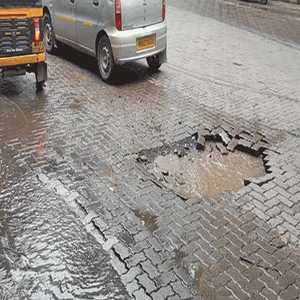pothole: (134, 124, 272, 204)
